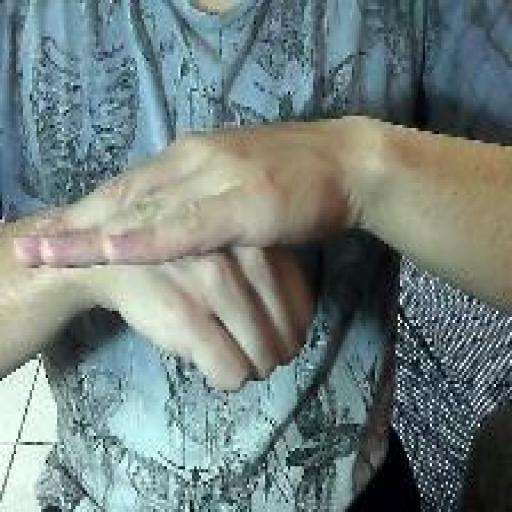Inu -dog-: (9, 122, 320, 399)
